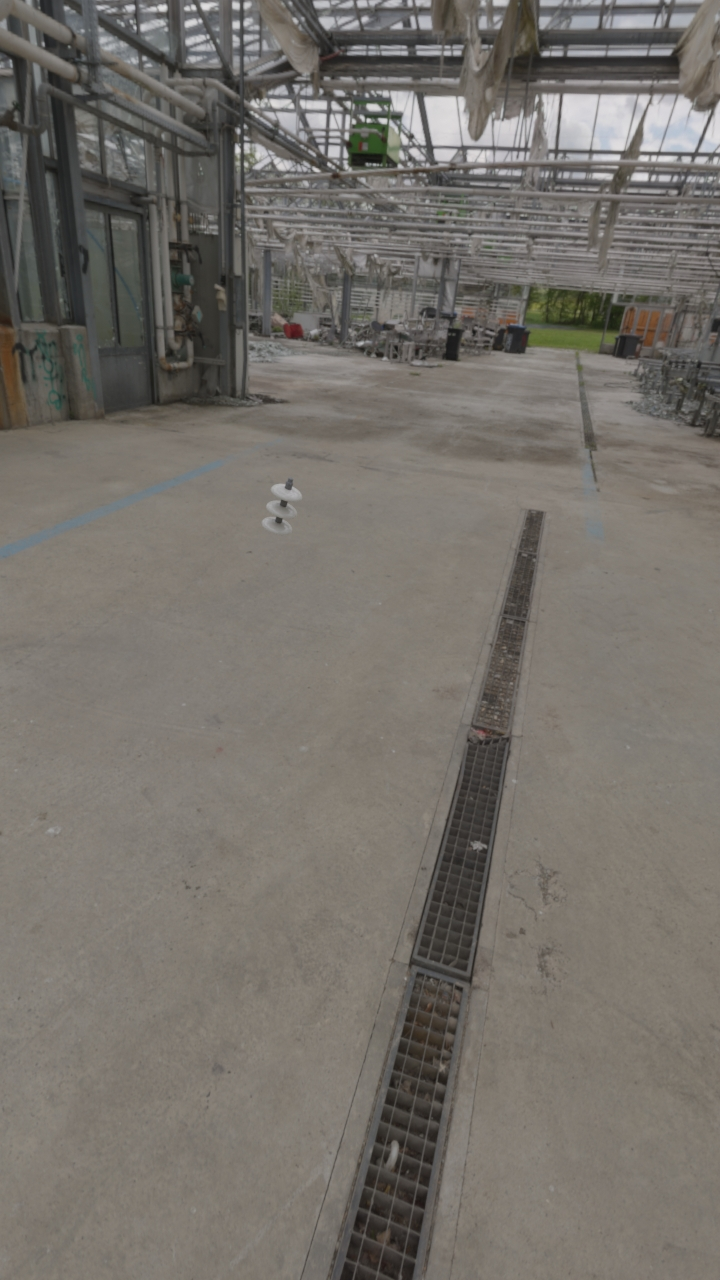ceramicinsulators: (261, 477, 302, 536)
